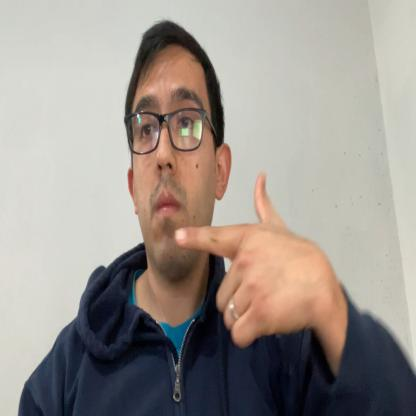G: (174, 172, 318, 346)
